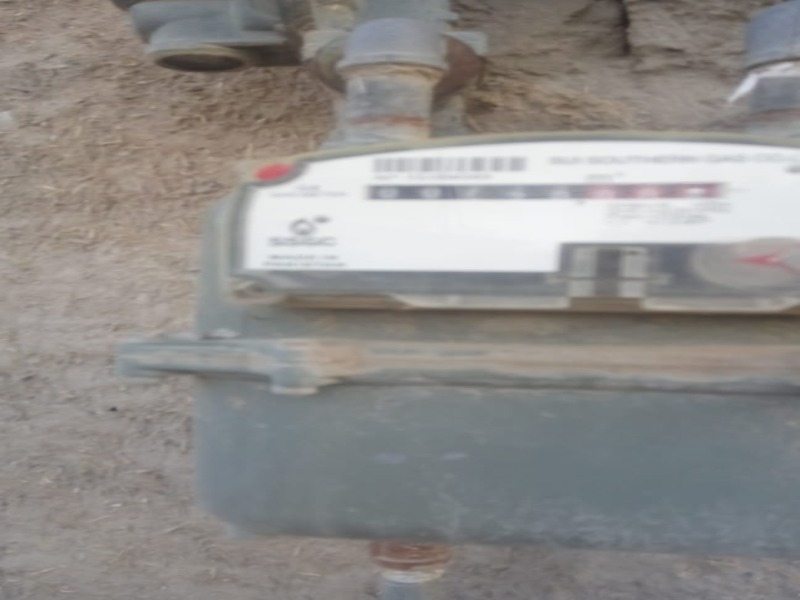ssgc: (362, 178, 730, 203)
